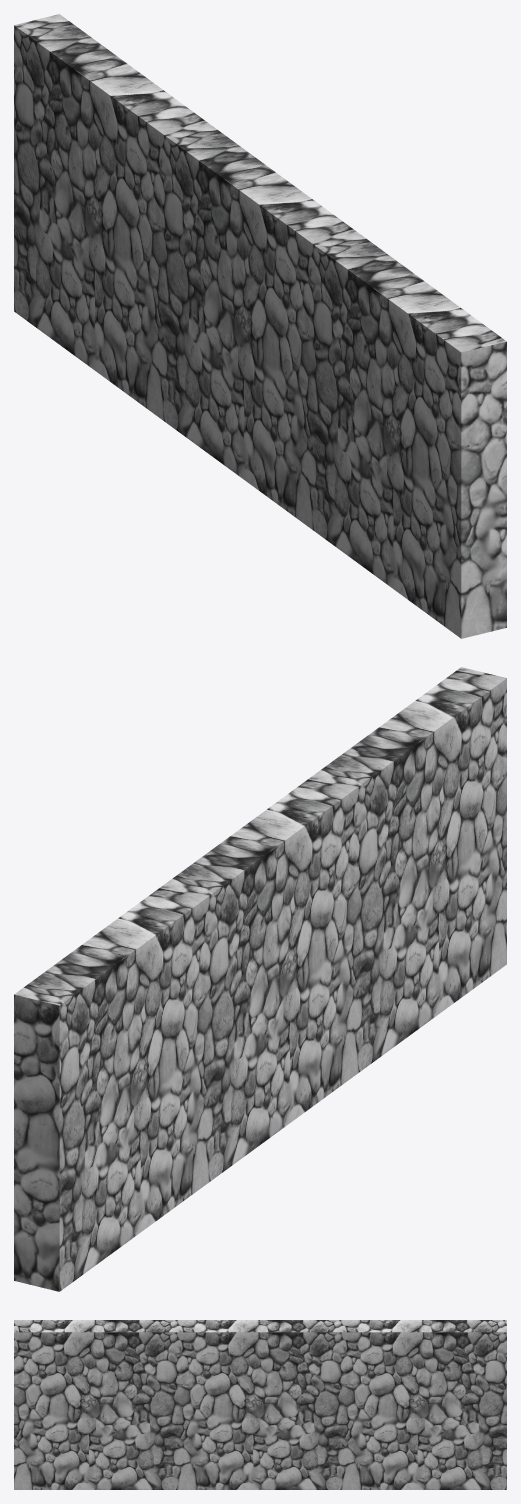
File: SM_Wall_C.fbx
3 renders of one model, top to bottom at view 1: azimuth 30°, elevation 25°; view 2: azimuth 150°, elevation 25°; view 3: azimuth 270°, elevation 25°, orthographic. The views are drawn at different scales.
Visible parts, largest first — view 1: SM_Wall_C; view 2: SM_Wall_C; view 3: SM_Wall_C.
Boxes of the visible parts, x1=… form: SM_Wall_C: x1=14, y1=14, x2=506, y2=638; SM_Wall_C: x1=14, y1=667, x2=506, y2=1291; SM_Wall_C: x1=14, y1=1320, x2=506, y2=1489.
Bounding box in the file's own units: 100 × 600 × 1700.
